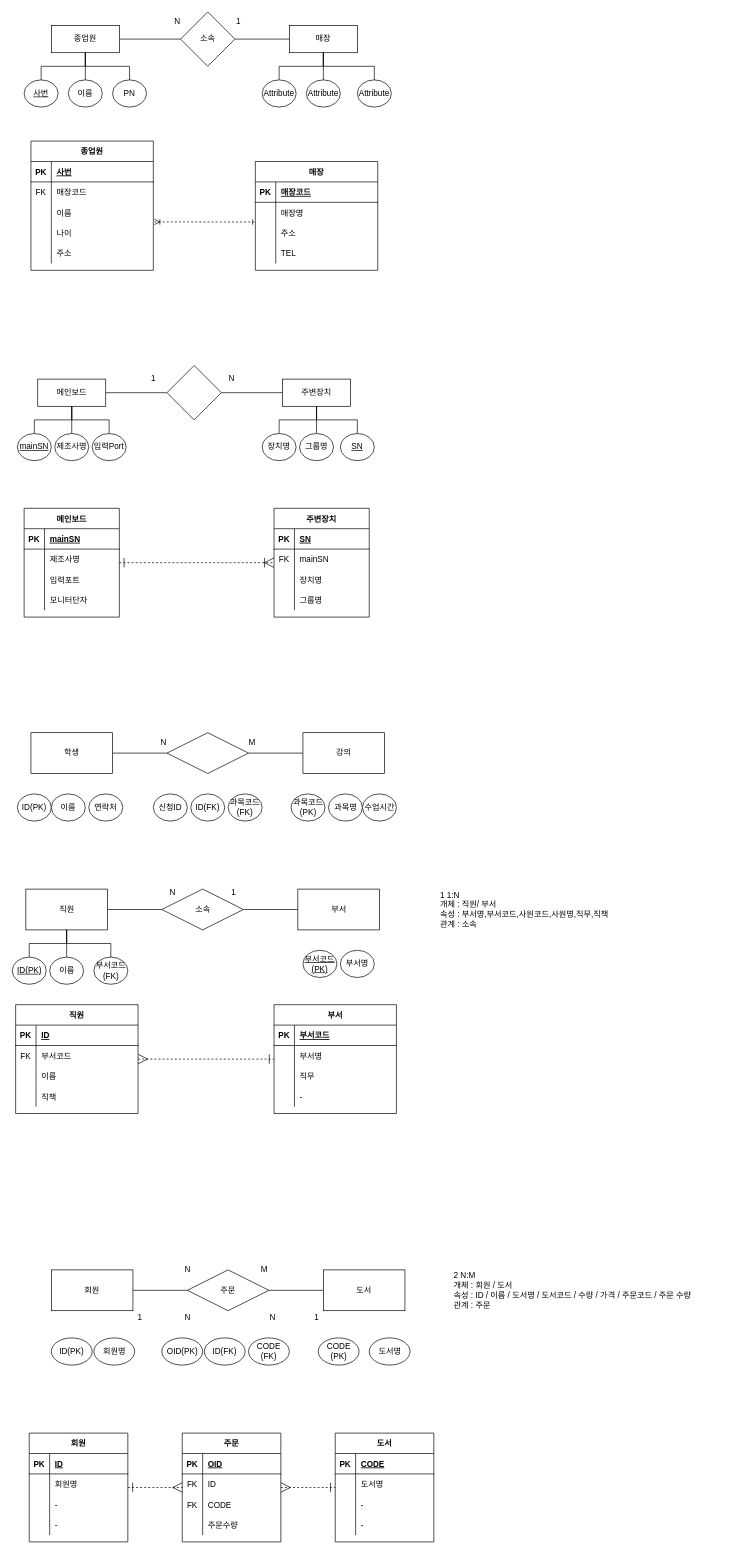
This 729x1554 diagram has some shape labels left out. Here are the shapes that lost their labels. From the top down, the centre of each, then its label:
point 193,392: 연결
point 207,753: 수강신청
